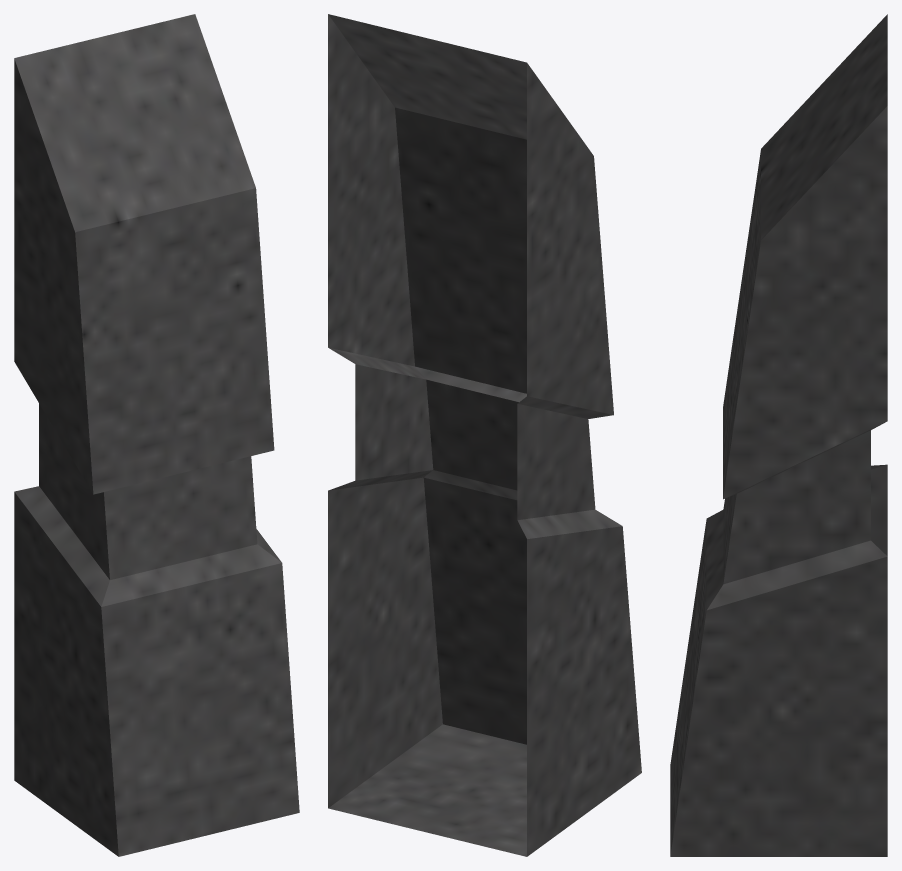
Rendered from FoundationColumb_Module.obj.
3 views of the same model, side by side, from view 1: azimuth 30°, elevation 25°; view 2: azimuth 150°, elevation 25°; view 3: azimuth 270°, elevation 25° (orthographic). The views are drawn at different scales.
Parts seen in each view (by area): view 1: polySurface54; view 2: polySurface54; view 3: polySurface54.
Part boxes in pixels (bbox=[...]): polySurface54: bbox=[14, 14, 299, 856]; polySurface54: bbox=[328, 14, 641, 856]; polySurface54: bbox=[670, 14, 887, 856].
Size of the model in its own units: 23.74 by 90.53 by 23.74.
1 material, 1 textured.
